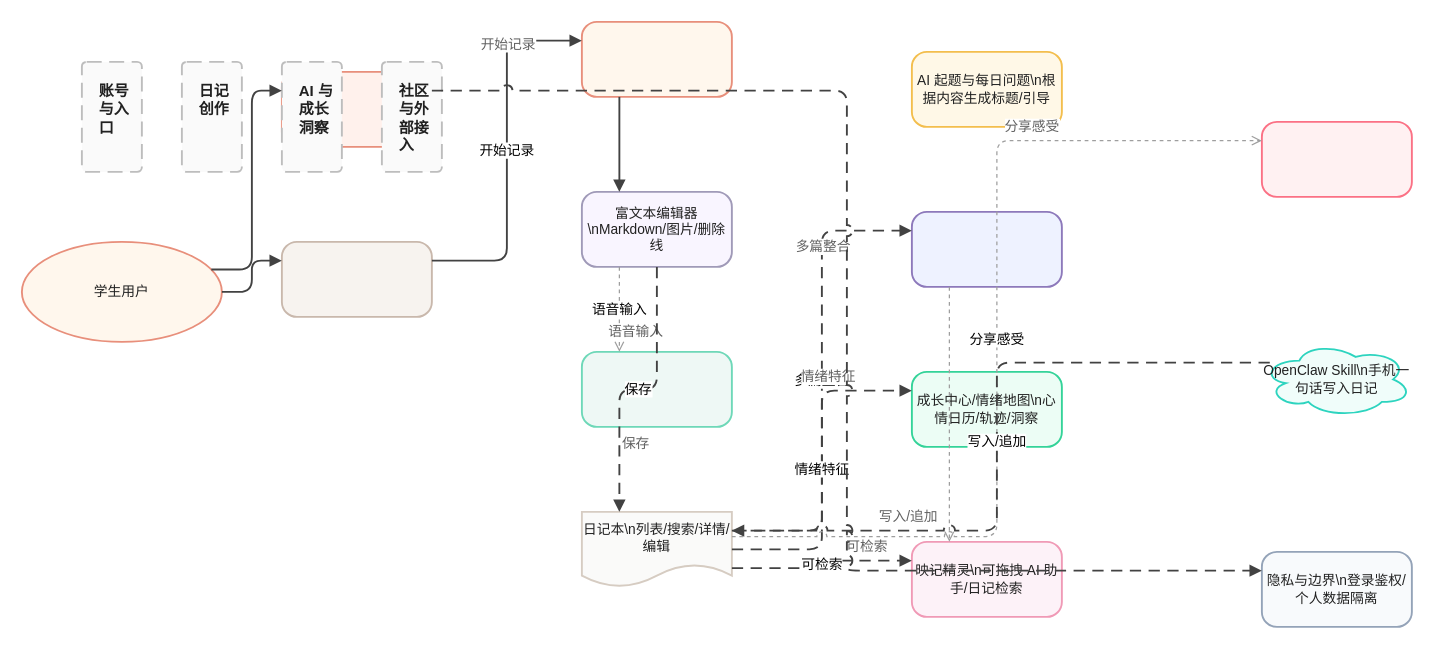
Some shapes in this 1435 by 650 pixel diagram are drawn without their labels. The shapes that lost their labels are listed below. From the top down, each one's centre as x and y in pixels, then its label:
At pixel 656 58: "写日记\n标题/日期/心情/重要性".
At pixel 356 108: "登录/注册\n邮箱验证码与滑块校验".
At pixel 1336 158: "情绪共鸣圈\n匿名发帖/评论/点赞/收藏".
At pixel 986 248: "综合冰山分析\n跨多篇日记 + RAG 检索".
At pixel 356 278: "个人资料设置\n头像/昵称/班级信息".
At pixel 656 388: "语音听写\n讯飞 WebSocket 流式识别".
